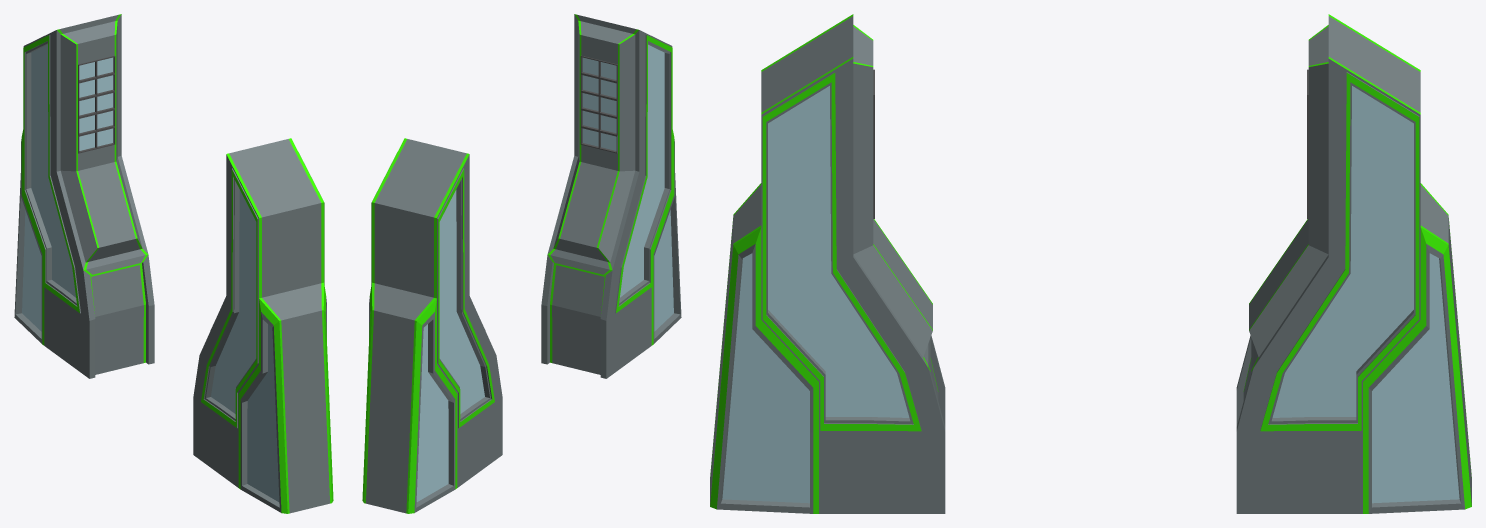
The picture shows the model from 3 angles, left to right: view 1: azimuth 30°, elevation 25°; view 2: azimuth 150°, elevation 25°; view 3: azimuth 270°, elevation 25°; orthographic projection. The views are drawn at different scales.
Visible parts, largest first — view 1: Cube.012; view 2: Cube.012; view 3: Cube.012.
Part boxes in pixels (left/top/right/bottom): Cube.012: left=14, top=14, right=333, bottom=513; Cube.012: left=362, top=14, right=681, bottom=513; Cube.012: left=710, top=14, right=1471, bottom=513.
Size of the model in its own units: 469 by 3295 by 2174.
